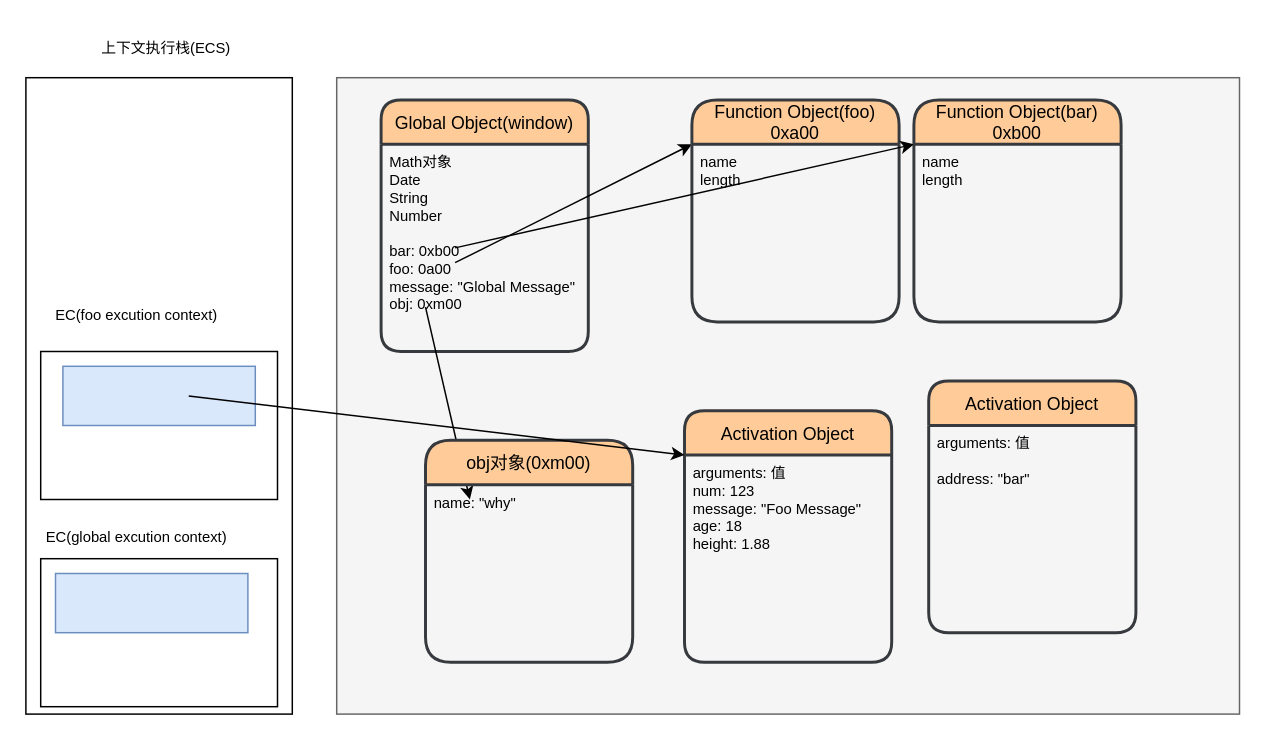
The diagram is 1265 pixels wide and 740 high, and some of its shapes have lost their labels. The centre of each missing label's shape, as x and y in pixels:
VO: AO: (x=158, y=395)
VO: GO scope chain this: (x=151, y=602)
